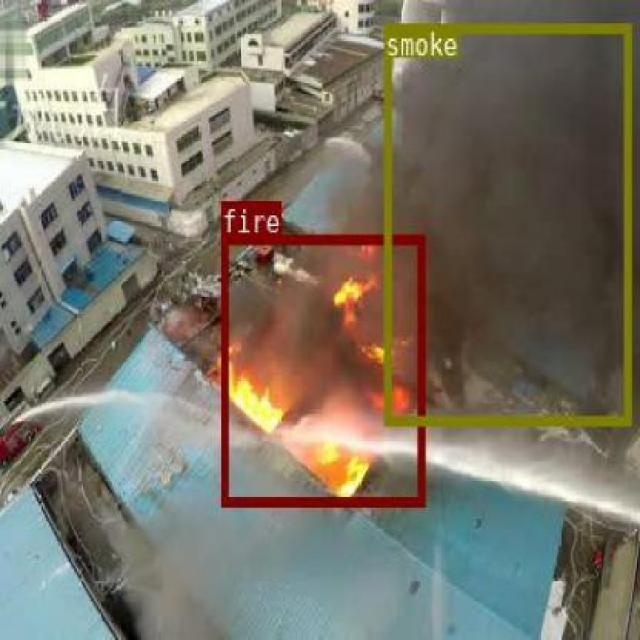Fire: (219, 232, 424, 506)
Smoke: (383, 23, 629, 423)
